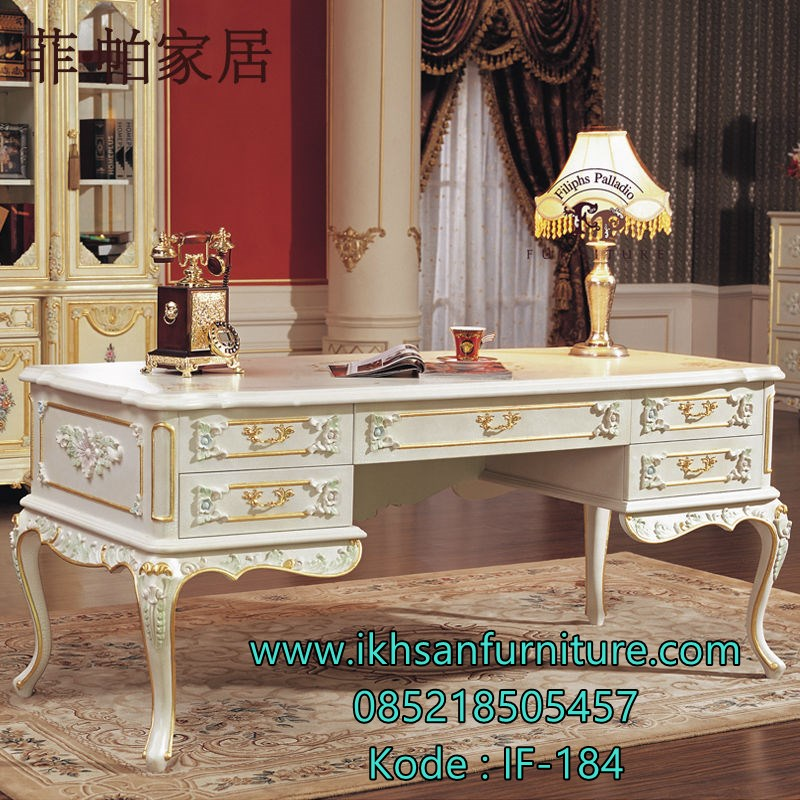Carving Table: (28, 344, 800, 743)
